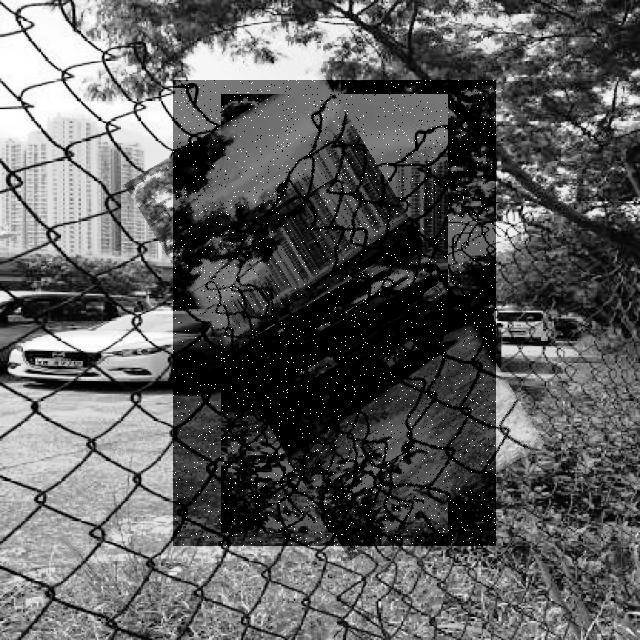anomaly-fence: (173, 80, 496, 546)
